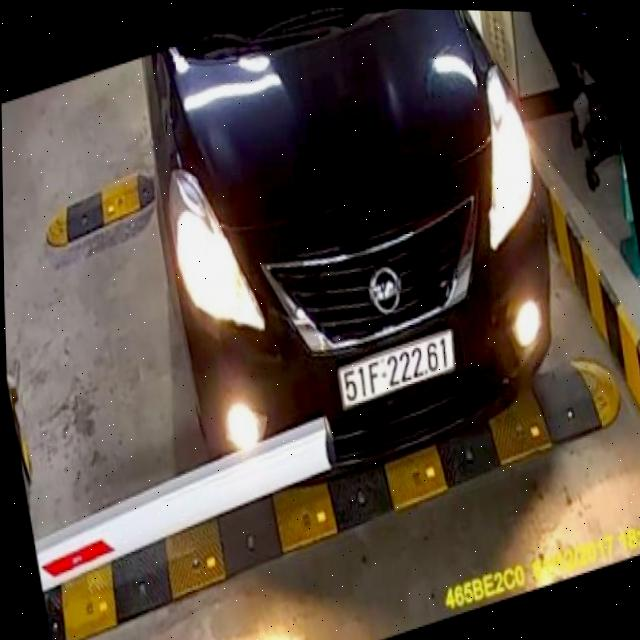car: (130, 3, 569, 488)
plate: (333, 323, 460, 416)
